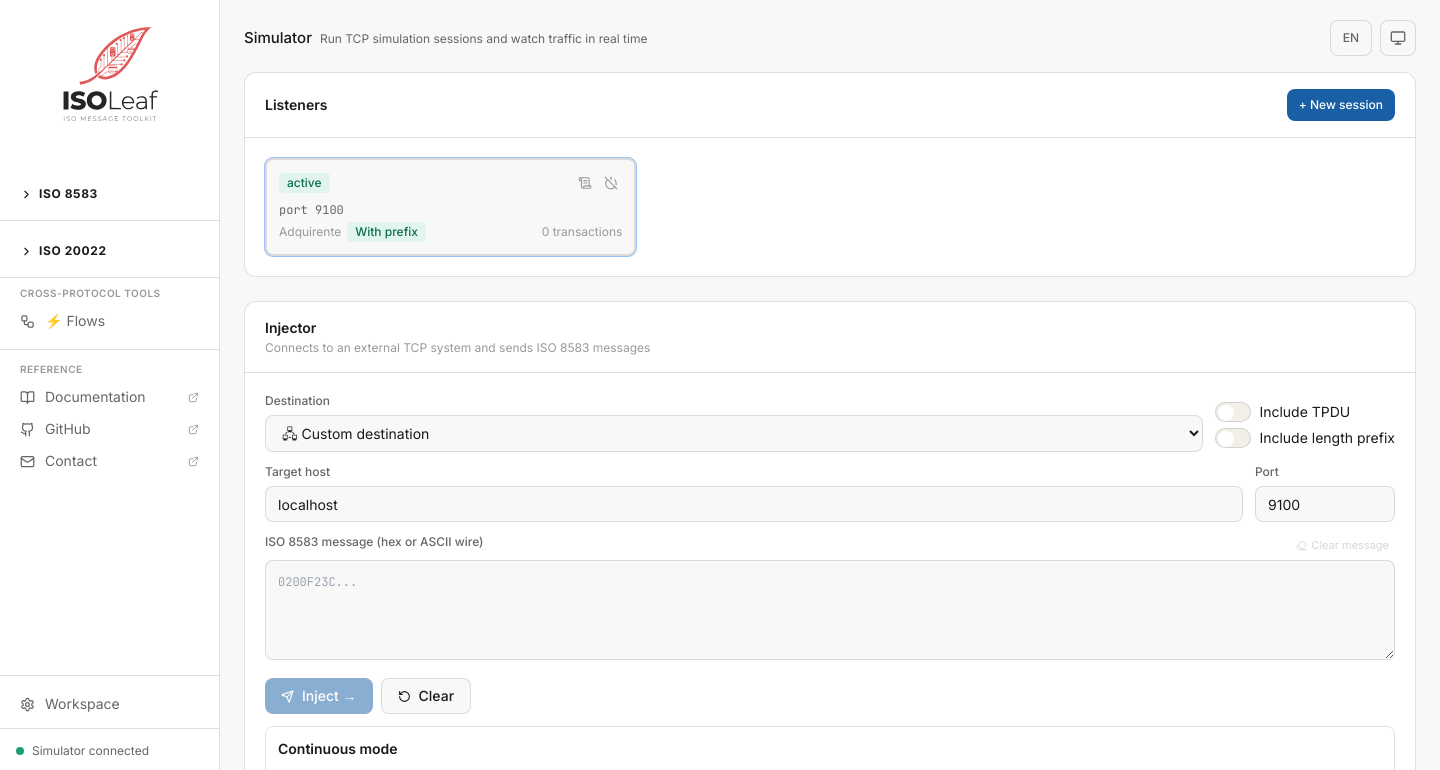
Test: Simulator page — redesigned layout › InjectorPanel hides custom host/port fields when a session is selected
The width and height of the screenshot is (1440, 770).
Expected: the text "port 9100" is shown, 279,202 -> 344,218
Expected: the element with test id "injector-custom-fields" is shown, 265,464 -> 1395,522
Select "⚠️ :9100 · Adquirente · With prefix" in the dropdown with test id "injector-destination". click: (734, 434)
box: 265,415 -> 1203,452
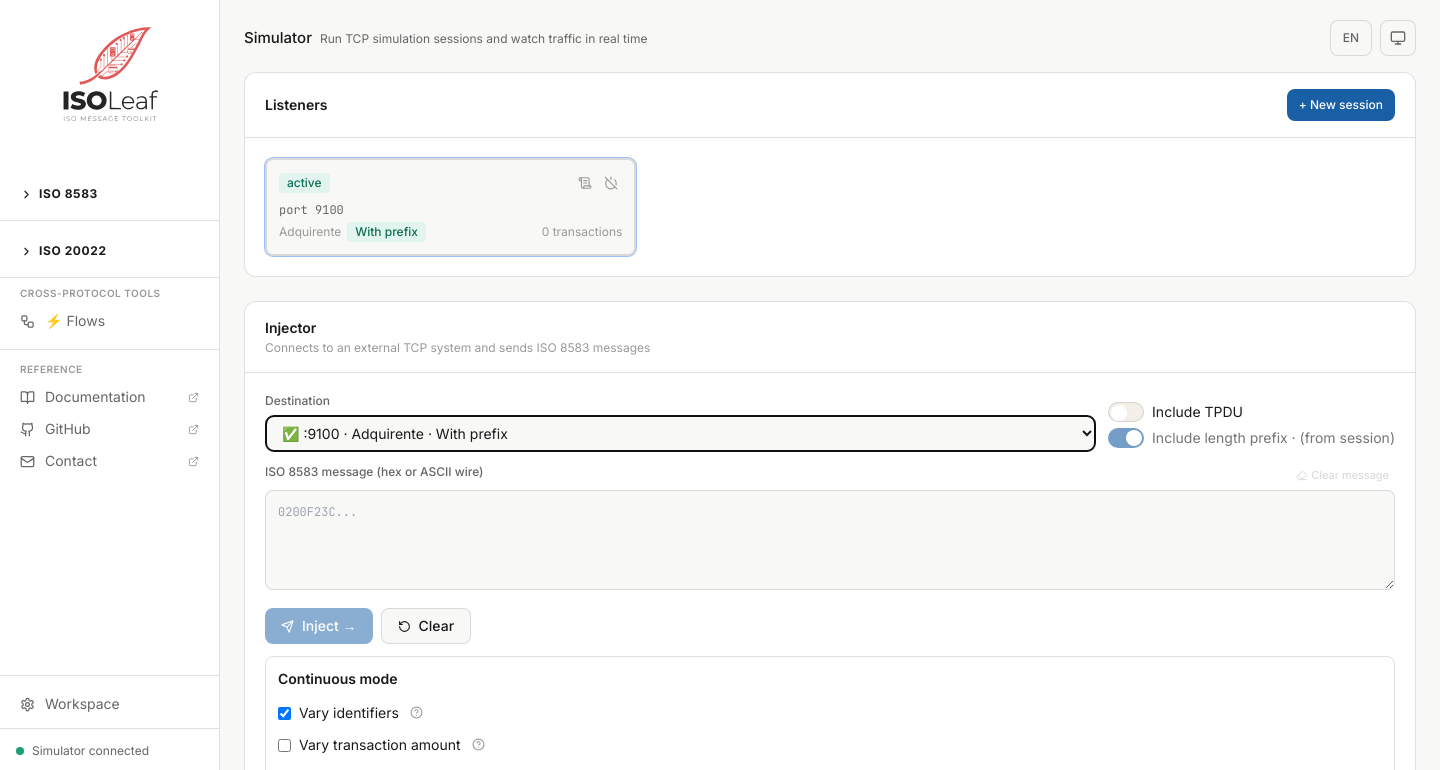
Expected: the element with test id "injector-custom-fields" is gone
